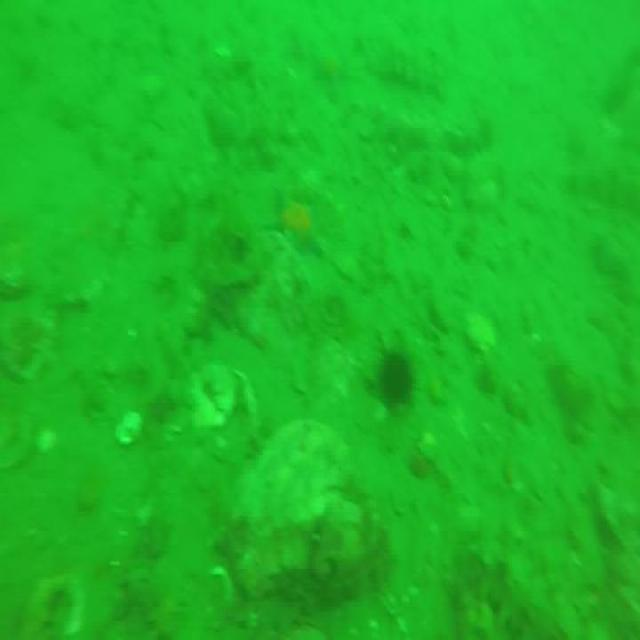echinus: (378, 351, 415, 406)
holothurian: (369, 36, 443, 96)
scallop: (187, 368, 237, 428), (461, 308, 498, 357), (115, 412, 145, 442)
starfish: (270, 190, 326, 264)
